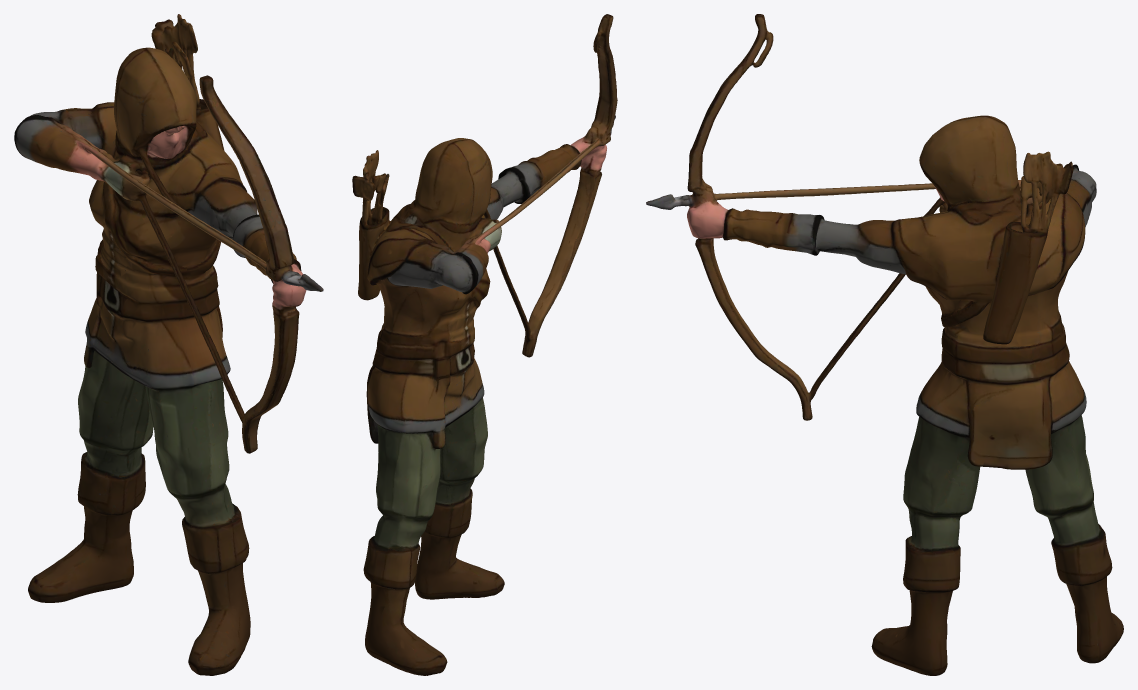
The model's file is bowman.glb.
3 renders of one model, left to right at view 1: azimuth 30°, elevation 25°; view 2: azimuth 150°, elevation 25°; view 3: azimuth 270°, elevation 25°, orthographic. The views are drawn at different scales.
Visible parts, largest first — view 1: world; view 2: world; view 3: world.
Part boxes in pixels (x1,y1,x2,y2): world: (14,14,323,675); world: (352,14,617,675); world: (646,14,1123,675).
Size of the model in its own units: 0.2919 by 1 by 0.7169.
Materials: 1 (1 with a texture image).
